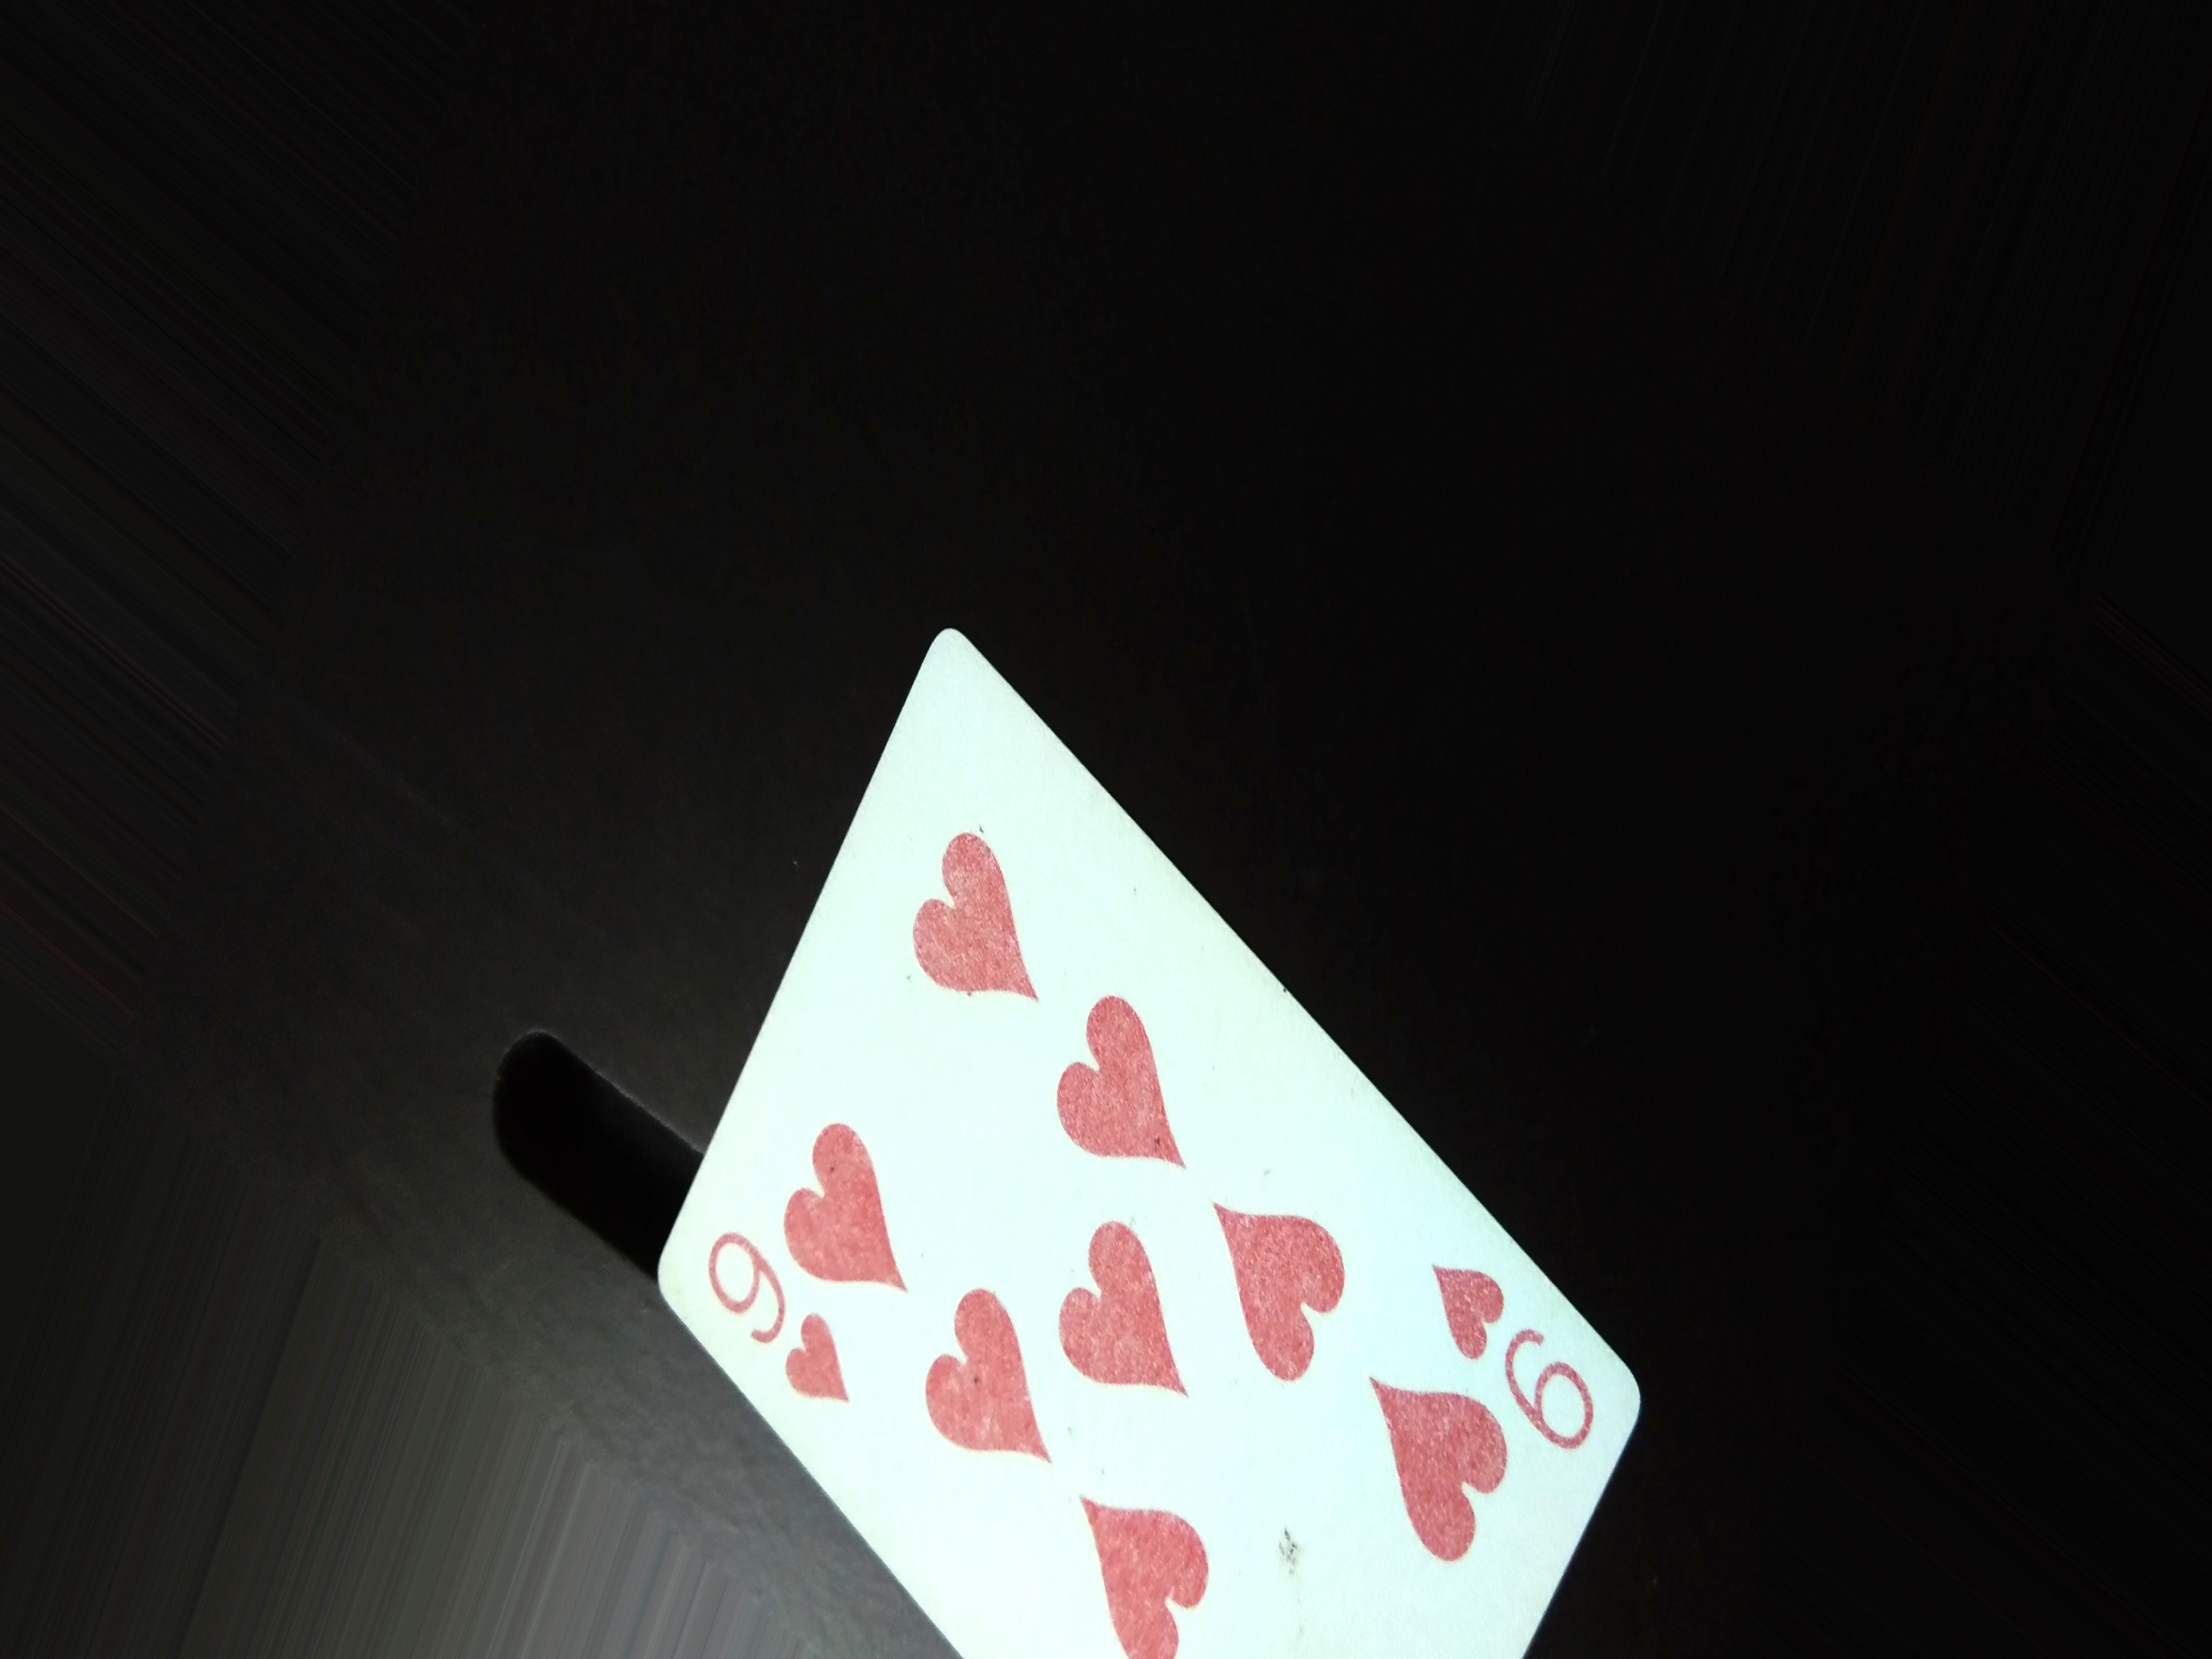9H: (686, 1222, 836, 1391)
